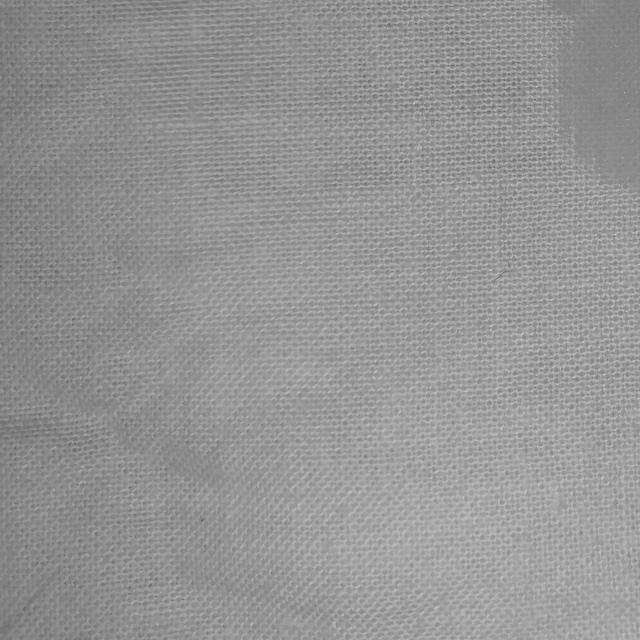Stain: (550, 0, 640, 194)
